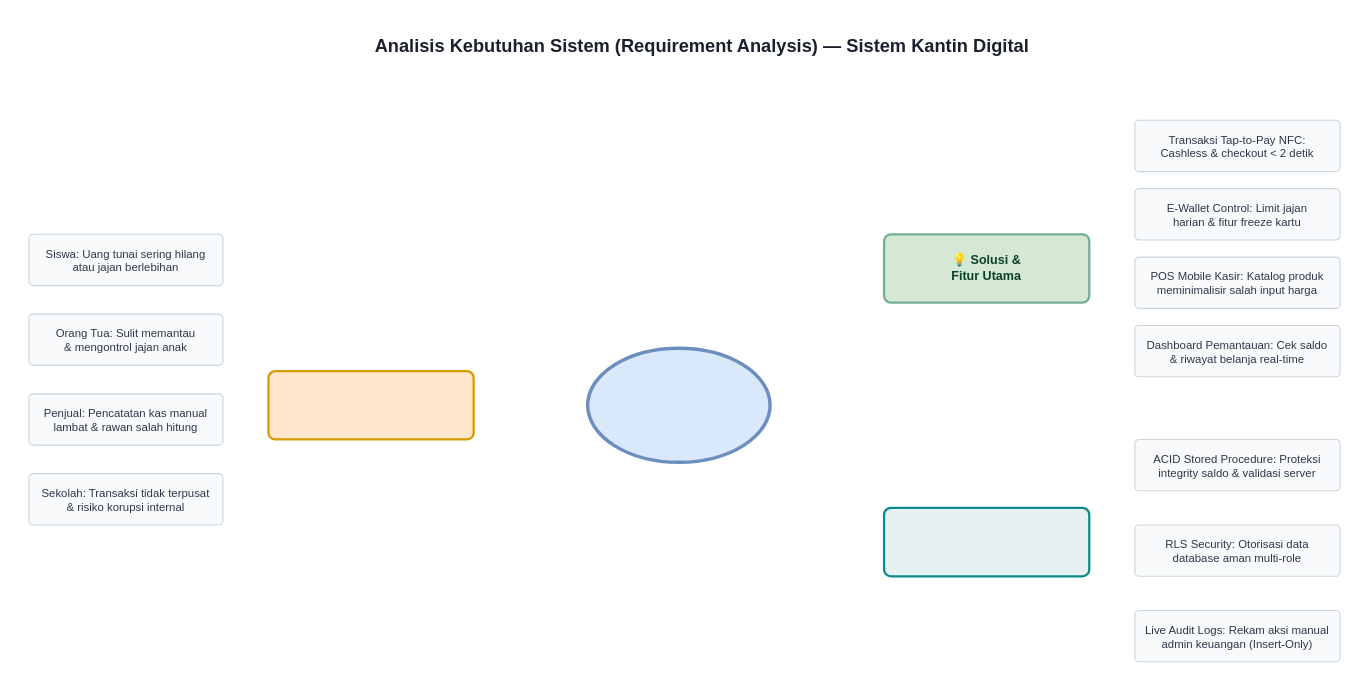
This 1360x682 diagram has some shape labels left out. Here are the shapes that lost their labels. From the top down, the centre of each, then its label:
At (370,404): "⚠️ Masalah Pengguna & Sekolah".
At (678,404): "🌟 Kebutuhan Kantin Digital".
At (986,541): "🔒 Transparansi & Keamanan".
